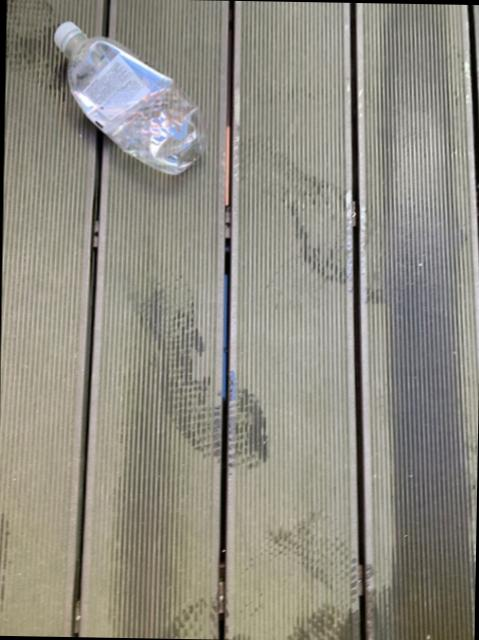plastic: (51, 20, 201, 172)
